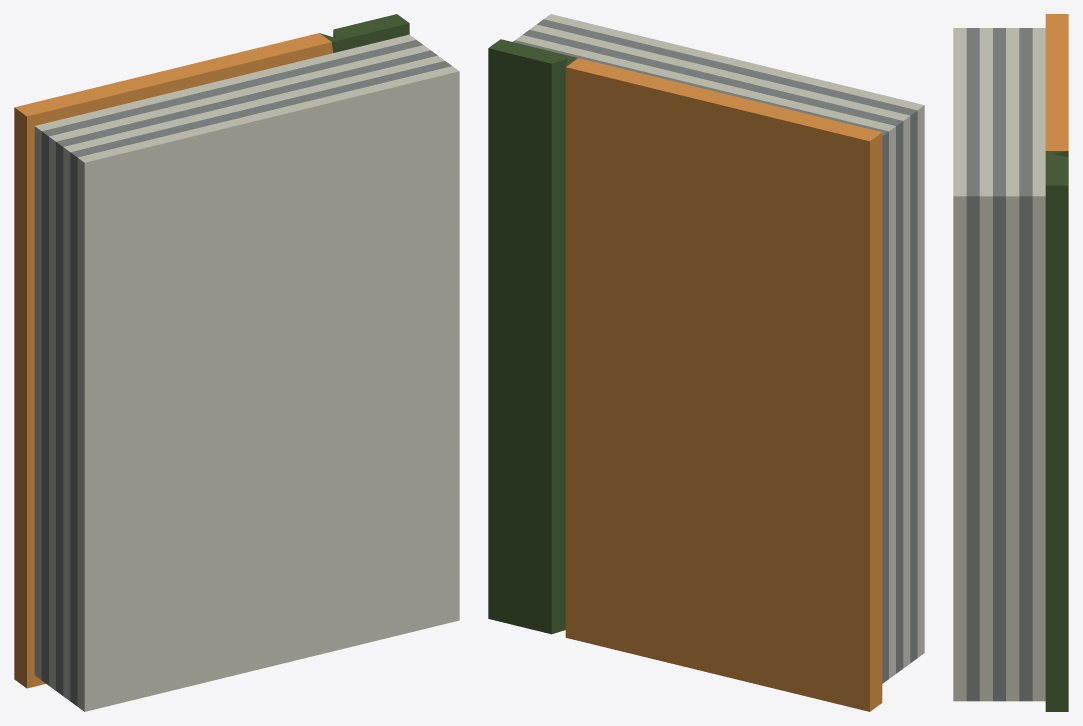
The model's file is HalfModel.fbx.
3 renders of one model, left to right at view 1: azimuth 30°, elevation 25°; view 2: azimuth 150°, elevation 25°; view 3: azimuth 270°, elevation 25°, orthographic. The views are drawn at different scales.
Visible parts, largest first — view 1: Cube.014, Cube.015, Cube.009, Cube.016; view 2: Cube.009, Cube.016, Cube.014, Cube.015; view 3: Cube.014, Cube.015, Cube.016, Cube.009.
Boxes of the visible parts, x1,y1,x2,y2 form: Cube.014: (34, 34, 459, 711); Cube.015: (41, 40, 451, 706); Cube.009: (14, 33, 332, 688); Cube.016: (320, 14, 409, 52); Cube.009: (565, 58, 882, 711); Cube.016: (488, 39, 577, 634); Cube.014: (515, 14, 924, 678); Cube.015: (513, 19, 917, 683); Cube.014: (953, 28, 1045, 701); Cube.015: (966, 28, 1032, 701); Cube.016: (1045, 151, 1068, 711); Cube.009: (1045, 14, 1068, 150).
Bounding box in the file's own units: 70 × 100 × 19.84.
